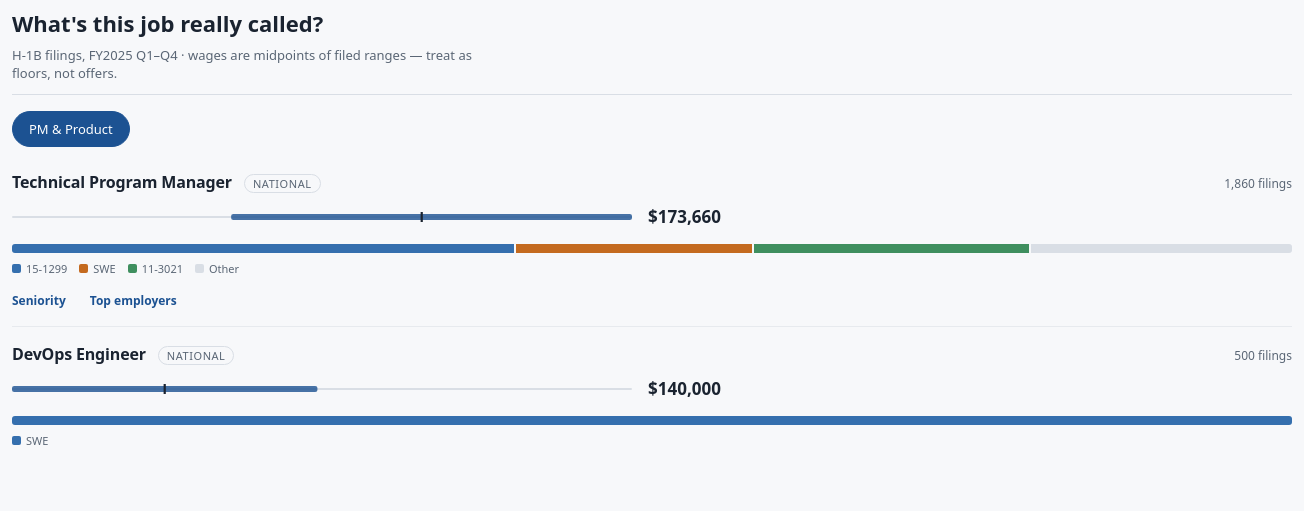
Test case: TitleLens › top-employers disclosure is hidden until expanded, then lists name · median · filings; a bucket with none shows no toggle
Expected: the text "Technical Program Manager" is shown, [12,171,232,193]
Expected: the text "Amazon.com Services LLC" is not shown
Click the button "Top employers". click: (133, 300)
box: [90,292,177,309]
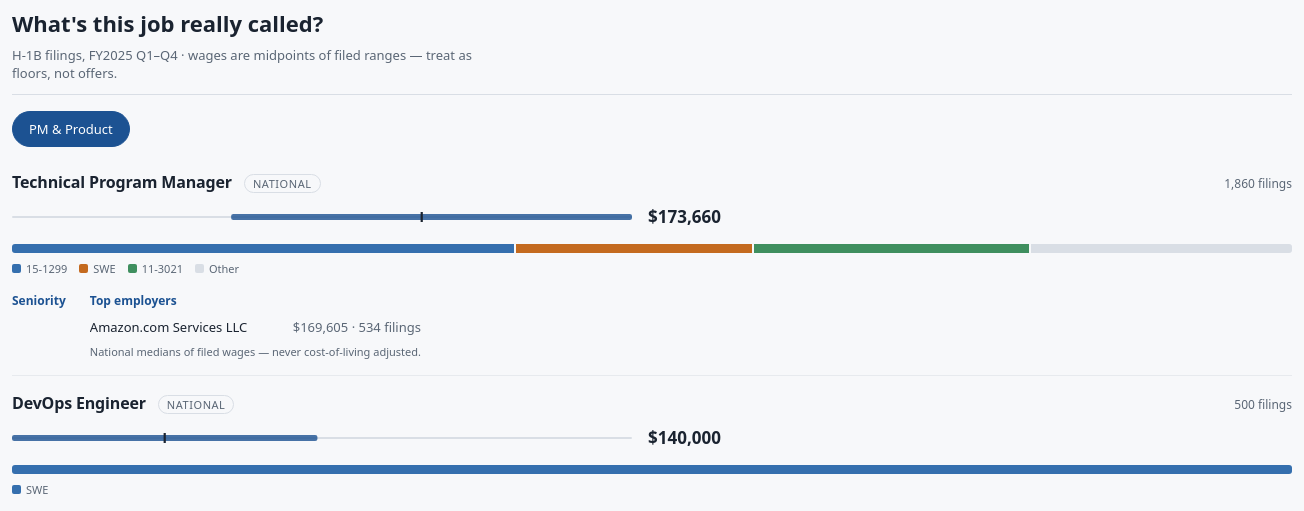
Result: the text "Amazon.com Services LLC" is shown at [90,318,247,336]
Result: the text "$169,605 · 534 filings" is shown at [293,318,421,336]
